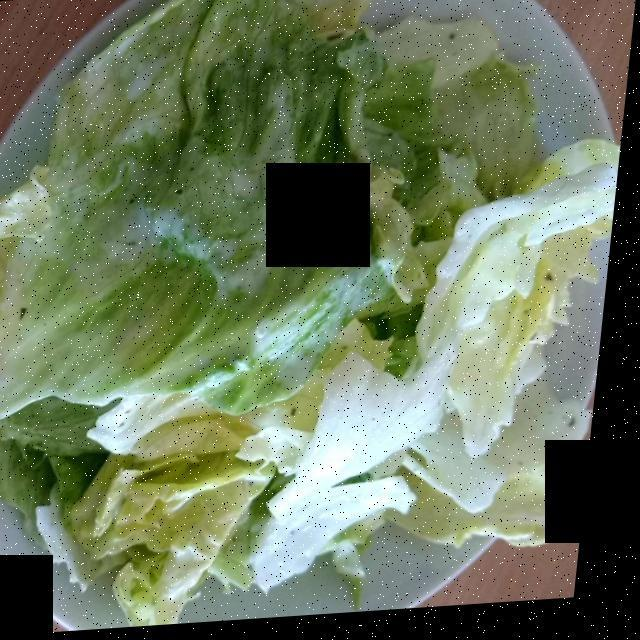salad: (0, 4, 596, 599), (53, 81, 488, 468)
